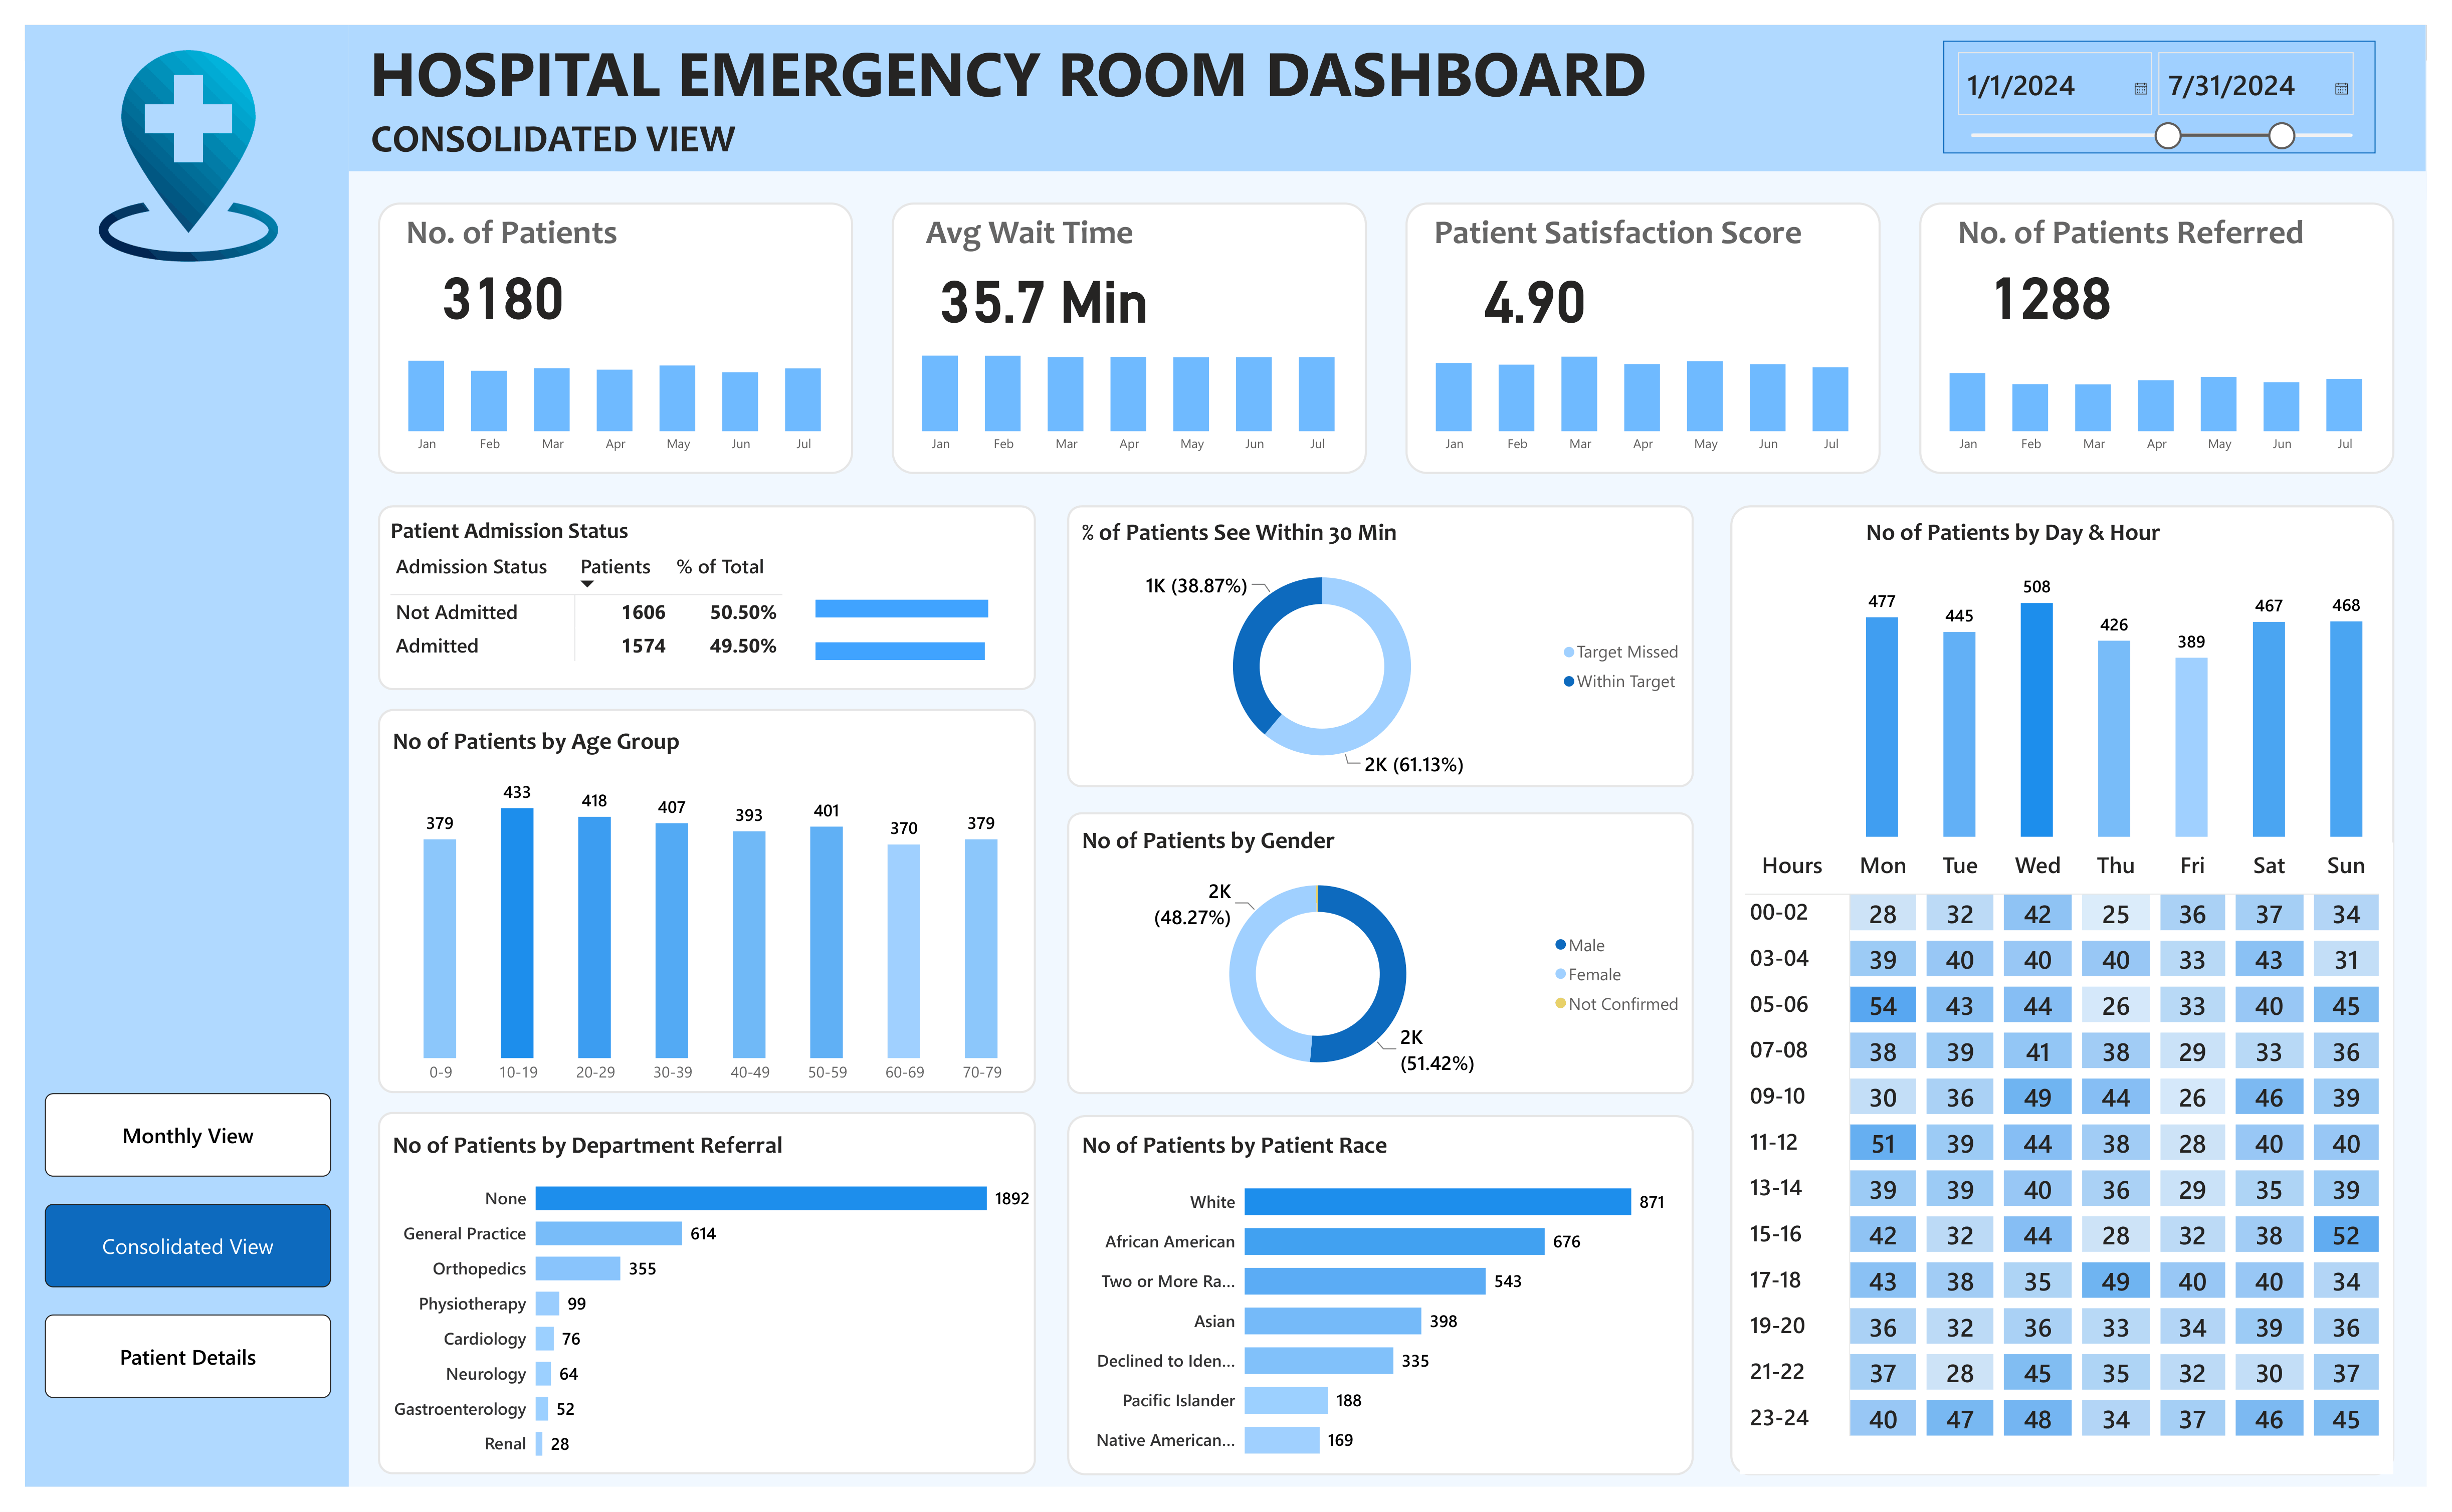

This screenshot's page, from the dashboard's own definition file:
{"tool":"powerbi","page":{"name":"Consolidated View","canvas":[2300,1400],"ordinal":1},"visuals":[{"type":"shape","box":[0,0,310,1400.3],"z":0},{"type":"shape","box":[310.4,0,1988.9,140.3],"z":1000},{"type":"textbox","box":[310.4,0,1262.3,89],"z":2000},{"type":"textbox","box":[326.4,79.8,425.5,58],"z":3000},{"type":"slicer","fields":{"Values":["Date Table.Date"]},"box":[1837.5,14.5,413.4,108.8],"z":4000},{"type":"shape","box":[338,170.2,455,259.8],"z":6000},{"type":"cardVisual","fields":{"Data":["New Measures.No of Patients"]},"box":[397,224.9,121.9,71.3],"z":7000},{"type":"textbox","box":[326.5,179.3,278.2,48.3],"z":8000},{"type":"columnChart","fields":{"Category":["Date Table.Month Name"],"Y":["New Measures.No of Patients"]},"box":[338,295.2,455.3,125],"z":9000},{"type":"shape","box":[830.1,170.2,455,259.8],"z":11000},{"type":"cardVisual","fields":{"Data":["New Measures.Avg Wait Time"]},"box":[876.1,227.6,200,71.3],"z":12000},{"type":"columnChart","fields":{"Category":["Date Table.Month Name"],"Y":["Avg(Hospital ER_Data.Patient Waittime)"]},"box":[830.1,295.2,455.3,125],"z":13000},{"type":"shape","box":[1322.1,170.2,455,259.8],"z":14000},{"type":"cardVisual","fields":{"Data":["New Measures.Satisfaction Score"]},"box":[1385.4,227.3,121.9,71.3],"z":15000},{"type":"columnChart","fields":{"Category":["Date Table.Month Name"],"Y":["New Measures.Satisfaction Score"]},"box":[1322.1,295.2,455.3,125],"z":16000},{"type":"shape","box":[1814.2,170.2,455,259.8],"z":17000},{"type":"cardVisual","fields":{"Data":["New Measures.No of Patients Referred"]},"box":[1878.6,224.9,121.9,71.3],"z":18000},{"type":"columnChart","fields":{"Category":["Date Table.Month Name"],"Y":["New Measures.No of Patients Referred"]},"box":[1814.2,295.2,455.3,125],"z":19000},{"type":"textbox","box":[823,179.3,278.2,48.3],"z":20000},{"type":"textbox","box":[1312.9,179.3,425.4,48.3],"z":21000},{"type":"textbox","box":[1800.4,179.3,432.3,48.3],"z":22000},{"type":"shape","box":[338,459.9,630,177],"z":23000},{"type":"pivotTable","title":"Patient Admission Status","fields":{"Rows":["Hospital ER_Data.Admission Status"],"Values":["New Measures.No of Patients1","New Measures.No of Patients"]},"box":[344.9,471.4,616.2,149.5],"z":24000},{"type":"barChart","fields":{"Category":["Hospital ER_Data.Admission Status"],"Y":["New Measures.No of Patients"]},"box":[751.9,517.4,216.1,119.6],"z":25000},{"type":"shape","box":[338,655.1,630,368],"z":26000},{"type":"clusteredColumnChart","fields":{"Category":["Hospital ER_Data.Age Group"],"Y":["New Measures.No of Patients"]},"box":[347.2,671.2,620.8,351.8],"z":27000},{"type":"shape","box":[338,1040.9,630,347],"z":28000},{"type":"clusteredBarChart","fields":{"Category":["Hospital ER_Data.Department Referral"],"Y":["New Measures.No of Patients"]},"box":[347.2,1057.7,620.8,331.1],"z":29000},{"type":"shape","box":[997.9,459.9,600,270],"z":30000},{"type":"donutChart","title":"% of Patients See Within 30 Min","fields":{"Category":["Hospital ER_Data.Waittime Status"],"Y":["New Measures.No of Patients"]},"box":[1007.1,471.4,590.9,257.5],"z":31000},{"type":"shape","box":[997.9,754.2,600,270],"z":32000},{"type":"donutChart","title":"No of Patients by Gender","fields":{"Y":["New Measures.No of Patients"],"Category":["Hospital ER_Data.Patient Gender"]},"box":[1007.1,765.7,590.9,257.5],"z":33000},{"type":"shape","box":[997.9,1043.9,600.1,344.9],"z":34000},{"type":"clusteredBarChart","fields":{"Y":["New Measures.No of Patients"],"Category":["Hospital ER_Data.Patient Race"]},"box":[1007.1,1057.7,590.9,331.1],"z":35000},{"type":"shape","box":[1632.5,459.9,636.9,928.9],"z":36000},{"type":"pivotTable","fields":{"Rows":["Hospital ER_Data.Waittime Interval"],"Columns":["Date Table.Day Name"],"Values":["New Measures.No of Patients"]},"box":[1641.7,783.4,626.2,604.4],"z":37000},{"type":"columnChart","title":"No of Patients by Day & Hour","fields":{"Category":["Date Table.Day Name"],"Y":["New Measures.No of Patients"]},"box":[1757.7,471.5,488.4,311.9],"z":38000},{"type":"image","box":[33.8,24.2,244.2,203.1],"z":39000},{"type":"pageNavigator","box":[19.3,1022.7,273.2,292.5],"z":39001}]}

Visuals, with their boxes on the page's 2300x1400 design canvas (x1, y1, x2, y2). These are canvas units, not pixel positions in the 2452x1512 screenshot, which may show the page scaled, cropped or inside an application window:
shape: left=0, top=0, right=310, bottom=1400
shape: left=310, top=0, right=2299, bottom=140
textbox: left=310, top=0, right=1573, bottom=89
textbox: left=326, top=80, right=752, bottom=138
slicer - Date Table.Date: left=1838, top=14, right=2251, bottom=123
shape: left=338, top=170, right=793, bottom=430
cardVisual - New Measures.No of Patients: left=397, top=225, right=519, bottom=296
textbox: left=326, top=179, right=605, bottom=228
columnChart - Date Table.Month Name x New Measures.No of Patients: left=338, top=295, right=793, bottom=420
shape: left=830, top=170, right=1285, bottom=430
cardVisual - New Measures.Avg Wait Time: left=876, top=228, right=1076, bottom=299
columnChart - Date Table.Month Name x Avg(Hospital ER_Data.Patient Waittime): left=830, top=295, right=1285, bottom=420
shape: left=1322, top=170, right=1777, bottom=430
cardVisual - New Measures.Satisfaction Score: left=1385, top=227, right=1507, bottom=299
columnChart - Date Table.Month Name x New Measures.Satisfaction Score: left=1322, top=295, right=1777, bottom=420
shape: left=1814, top=170, right=2269, bottom=430
cardVisual - New Measures.No of Patients Referred: left=1879, top=225, right=2000, bottom=296
columnChart - Date Table.Month Name x New Measures.No of Patients Referred: left=1814, top=295, right=2270, bottom=420
textbox: left=823, top=179, right=1101, bottom=228
textbox: left=1313, top=179, right=1738, bottom=228
textbox: left=1800, top=179, right=2233, bottom=228
shape: left=338, top=460, right=968, bottom=637
"Patient Admission Status" pivotTable: left=345, top=471, right=961, bottom=621
barChart - Hospital ER_Data.Admission Status x New Measures.No of Patients: left=752, top=517, right=968, bottom=637
shape: left=338, top=655, right=968, bottom=1023
clusteredColumnChart - Hospital ER_Data.Age Group x New Measures.No of Patients: left=347, top=671, right=968, bottom=1023
shape: left=338, top=1041, right=968, bottom=1388
clusteredBarChart - Hospital ER_Data.Department Referral x New Measures.No of Patients: left=347, top=1058, right=968, bottom=1389
shape: left=998, top=460, right=1598, bottom=730
"% of Patients See Within 30 Min" donutChart: left=1007, top=471, right=1598, bottom=729
shape: left=998, top=754, right=1598, bottom=1024
"No of Patients by Gender" donutChart: left=1007, top=766, right=1598, bottom=1023
shape: left=998, top=1044, right=1598, bottom=1389
clusteredBarChart - New Measures.No of Patients x Hospital ER_Data.Patient Race: left=1007, top=1058, right=1598, bottom=1389
shape: left=1632, top=460, right=2269, bottom=1389
pivotTable - Hospital ER_Data.Waittime Interval x Date Table.Day Name: left=1642, top=783, right=2268, bottom=1388
"No of Patients by Day & Hour" columnChart: left=1758, top=472, right=2246, bottom=783
image: left=34, top=24, right=278, bottom=227
pageNavigator: left=19, top=1023, right=292, bottom=1315
